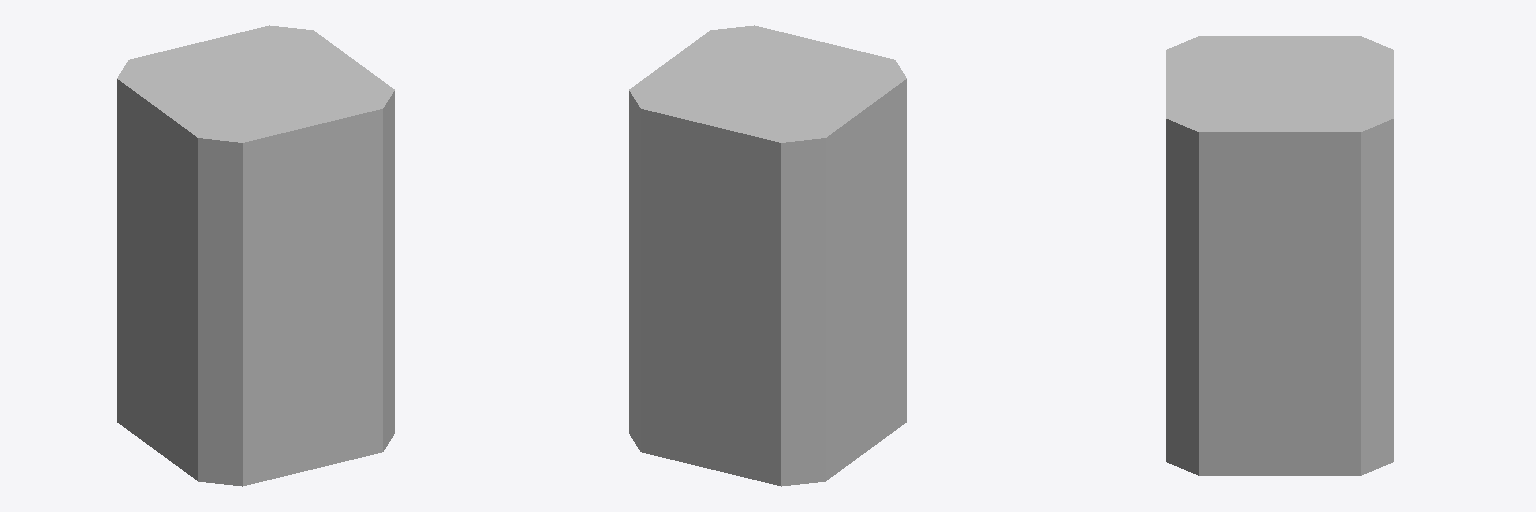
File: trap_ceiling_crusher_arm.obj
3 renders of one model, left to right at view 1: azimuth 30°, elevation 25°; view 2: azimuth 150°, elevation 25°; view 3: azimuth 270°, elevation 25°, orthographic.
Parts seen in each view (by area): view 1: trap_ceiling_crusher_arm; view 2: trap_ceiling_crusher_arm; view 3: trap_ceiling_crusher_arm.
Boxes of the visible parts, box(x1,y1,x2,y2) form: trap_ceiling_crusher_arm: box(117, 25, 394, 486); trap_ceiling_crusher_arm: box(629, 25, 906, 486); trap_ceiling_crusher_arm: box(1166, 36, 1393, 475).
Bounding box in the file's own units: 0.6 × 1 × 0.6.